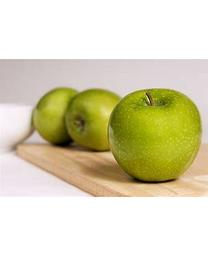apple: (107, 88, 202, 183), (65, 89, 123, 151), (32, 88, 79, 147)
